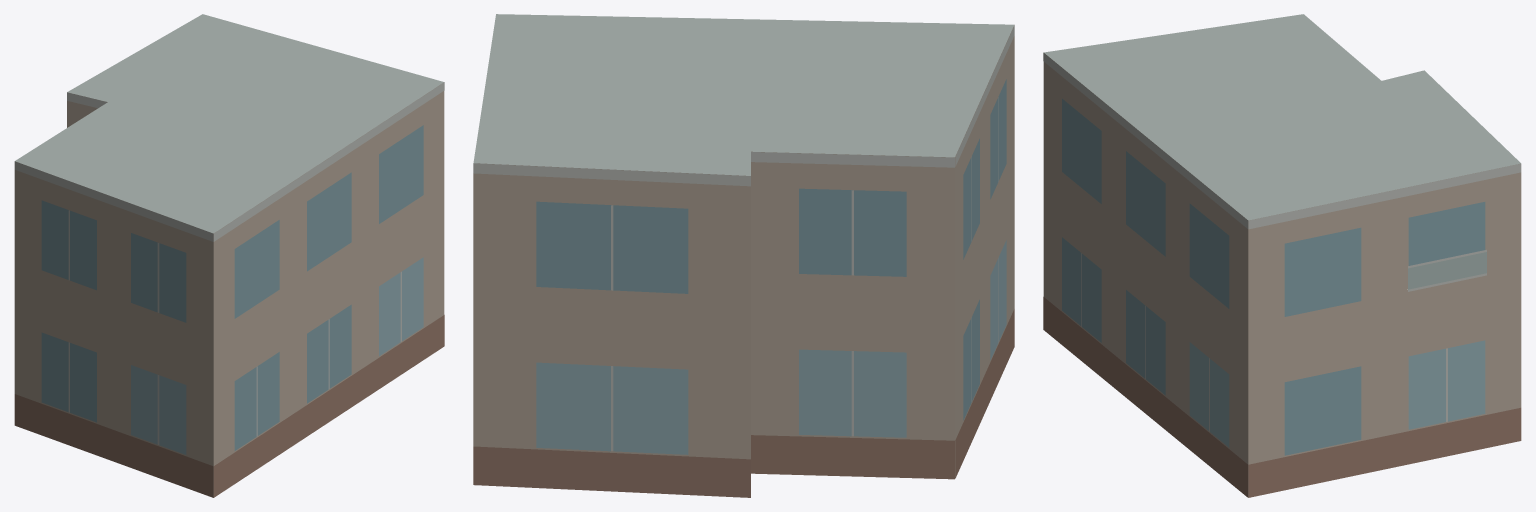
The model's file is survey-upis-33038704.glb.
The picture shows the model from 3 angles, left to right: view 1: azimuth 30°, elevation 25°; view 2: azimuth 150°, elevation 25°; view 3: azimuth 270°, elevation 25°; orthographic projection. The views are drawn at different scales.
Visible parts, largest first — view 1: survey-upis-33038704.tmp; view 2: survey-upis-33038704.tmp; view 3: survey-upis-33038704.tmp.
Part boxes in pixels (x1=…): survey-upis-33038704.tmp: x1=14, y1=14, x2=444, y2=497; survey-upis-33038704.tmp: x1=473, y1=14, x2=1014, y2=497; survey-upis-33038704.tmp: x1=1043, y1=14, x2=1521, y2=497.
Size of the model in its own units: 12.15 by 7.6 by 11.88.
